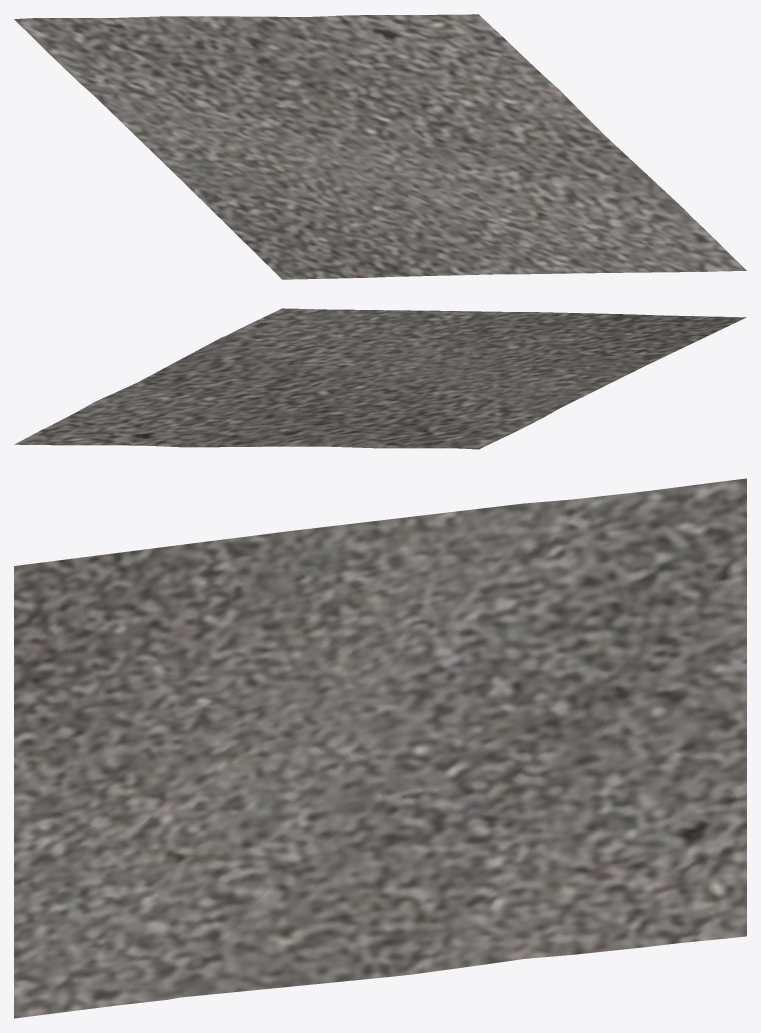
The picture shows the model from 3 angles, top to bottom: view 1: azimuth 30°, elevation 25°; view 2: azimuth 150°, elevation 25°; view 3: azimuth 270°, elevation 25°; orthographic projection. The views are drawn at different scales.
Size of the model in its own units: 0.8374 by 0.2904 by 0.8373.
Materials: 3 (3 with a texture image).
